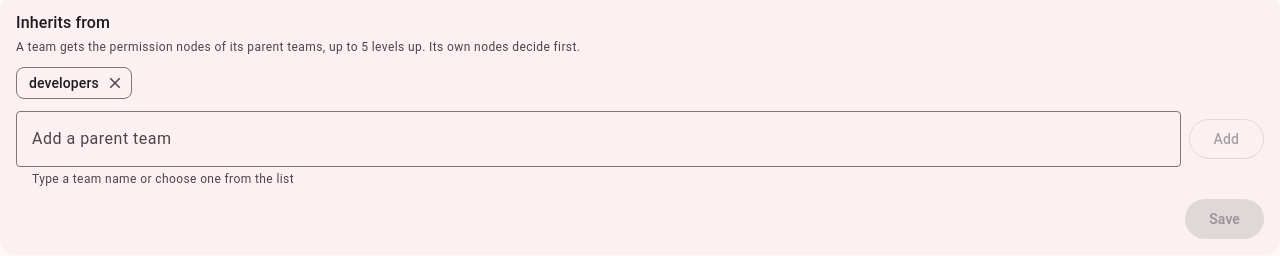
Scenario: TeamParentsCard › adding a parent › refuses the team itself as a parent with a clear message
Type "ops" into the dropdown labelled "Add a parent team" at (598, 139), box [16, 111, 1181, 167]
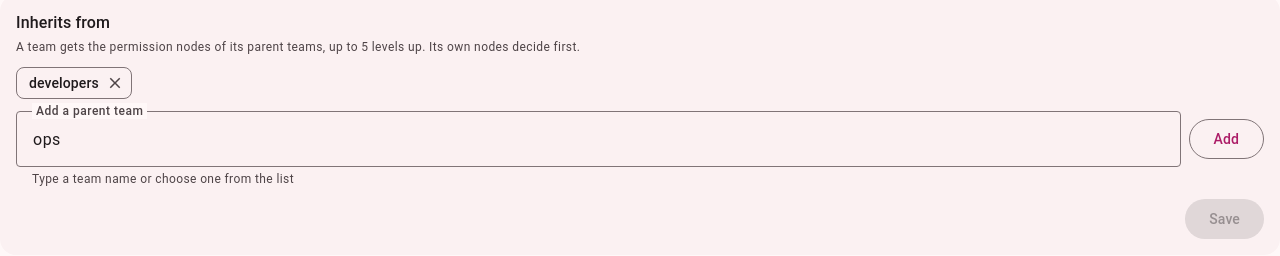
Press Enter in the dropdown labelled "Add a parent team", box [16, 111, 1181, 167]
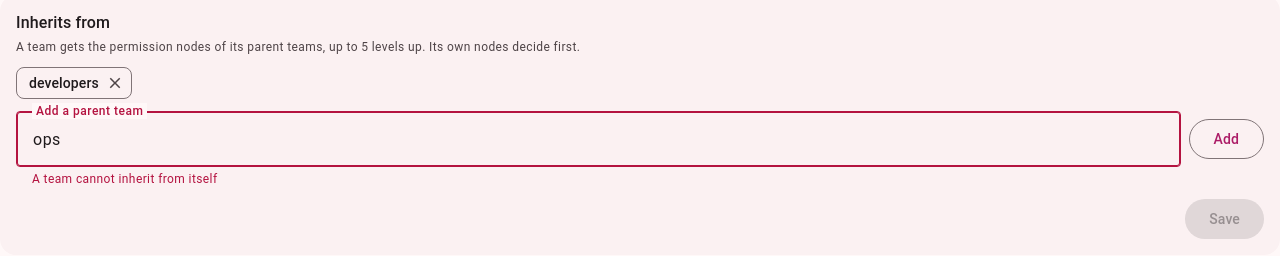
Expected: the text "A team cannot inherit from itself" is shown, [32, 172, 218, 186]
